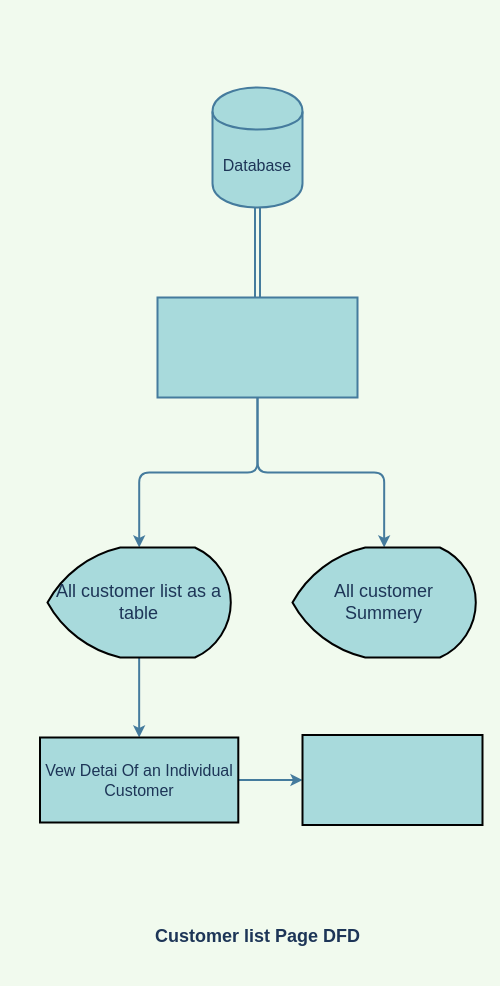
The diagram is 500 pixels wide and 986 high, and some of its shapes have lost their labels. The centre of each missing label's shape, as x and y in pixels:
"Accessing Database for customer list" belongs at [257,347].
"Goto customer transaction with mobile no" belongs at [392,780].
